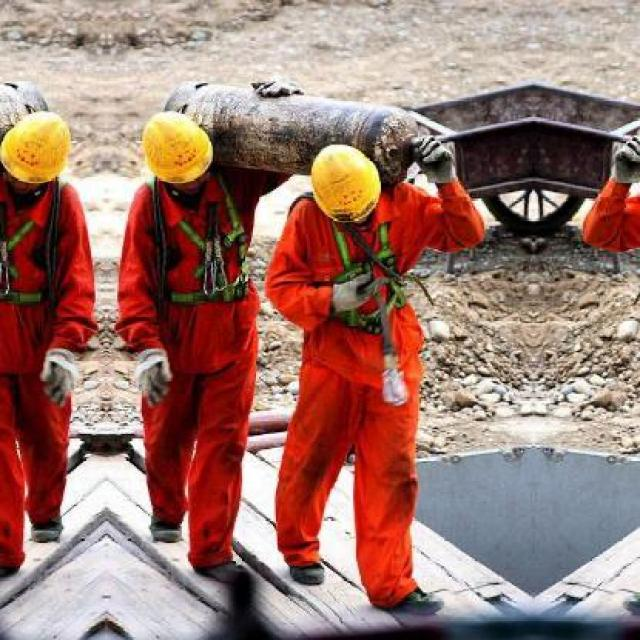Reflective-Jacket: (275, 180, 461, 414), (117, 172, 273, 420), (0, 168, 96, 475)
Safety-Helmet: (128, 103, 227, 192), (298, 137, 390, 226), (0, 103, 88, 192)
